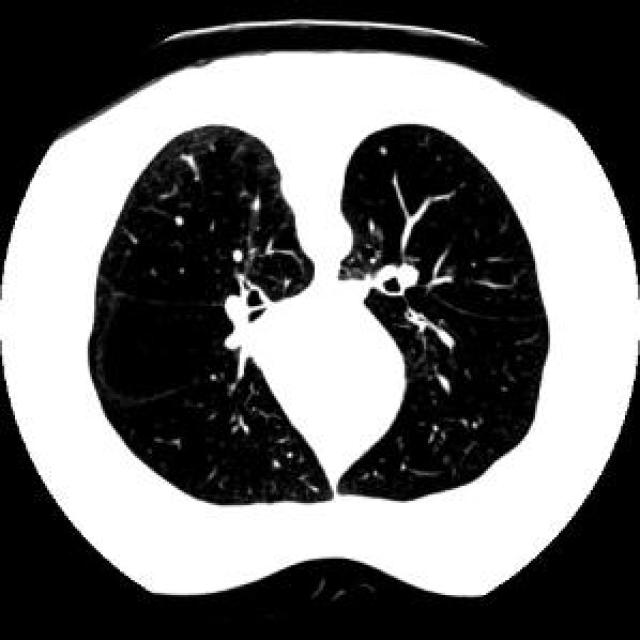Tumor: (380, 146, 386, 154)
